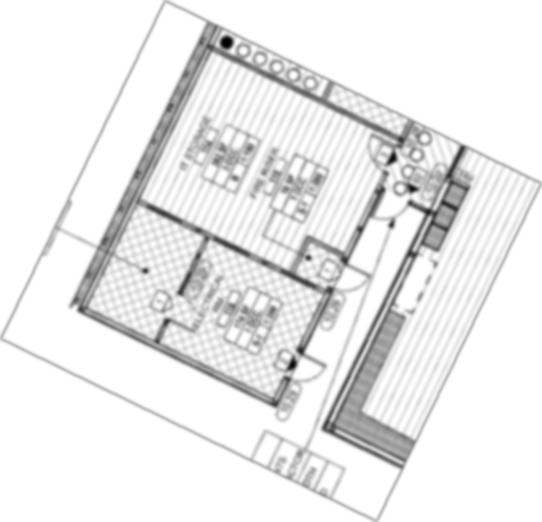door: (284, 347, 331, 392), (368, 180, 415, 223), (326, 257, 372, 298), (360, 130, 401, 174), (166, 288, 201, 334)
